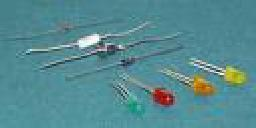LED: (187, 58, 251, 81), (189, 76, 213, 98), (147, 87, 178, 103), (127, 98, 145, 114)
